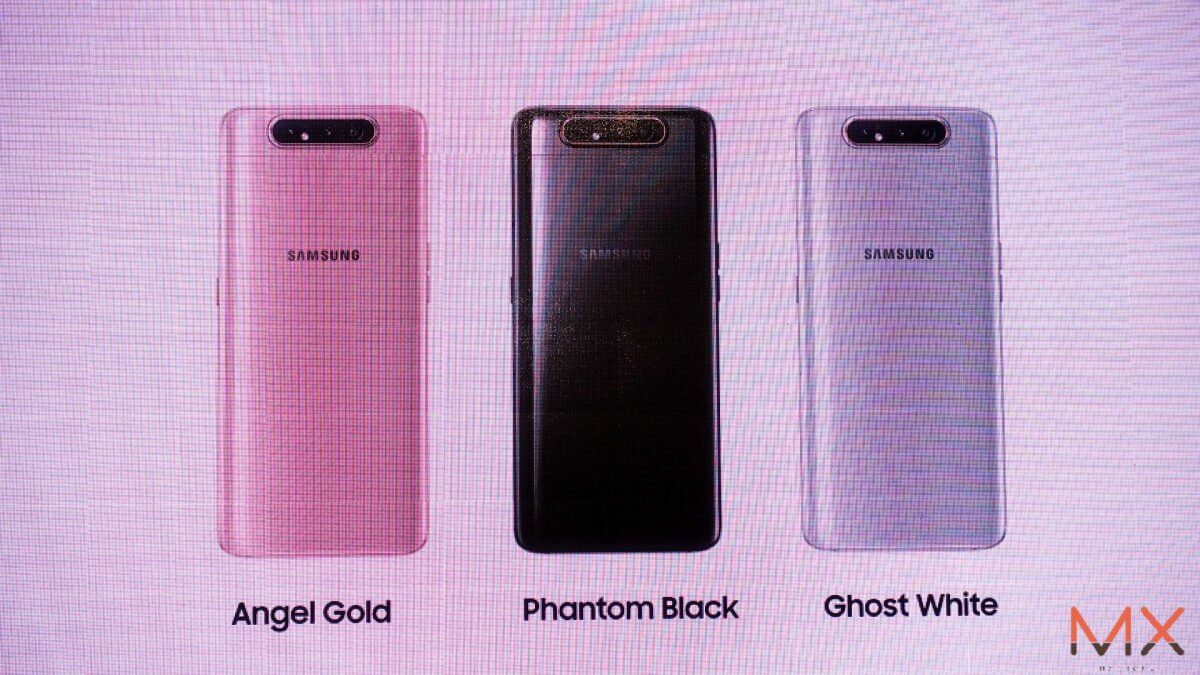Phone: (502, 99, 730, 558), (787, 102, 1013, 556), (216, 100, 438, 562)
